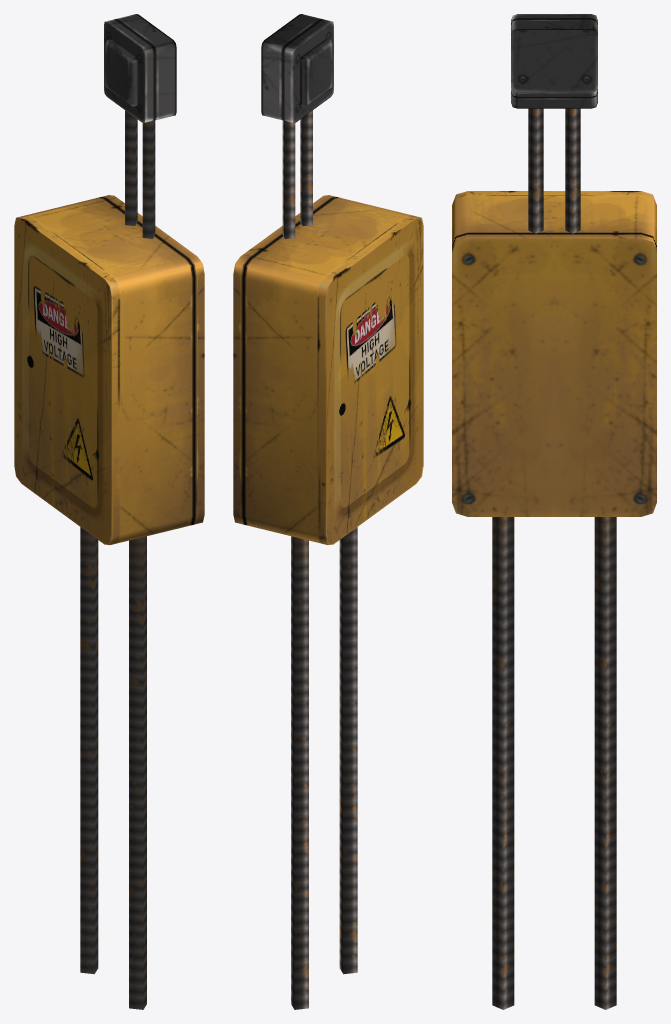
The model's file is fuseBox01.FBX.
3 views of the same model, side by side, from view 1: azimuth 30°, elevation 25°; view 2: azimuth 150°, elevation 25°; view 3: azimuth 270°, elevation 25° (orthographic). The views are drawn at different scales.
Visible parts, largest first — view 1: fuseBox01, fuseBox01_door; view 2: fuseBox01, fuseBox01_door; view 3: fuseBox01, fuseBox01_door.
Part boxes in pixels (<box>): fuseBox01: <box>25,14,204,1009</box>; fuseBox01_door: <box>14,215,120,544</box>; fuseBox01: <box>233,14,412,1009</box>; fuseBox01_door: <box>317,215,423,544</box>; fuseBox01: <box>452,14,656,1009</box>; fuseBox01_door: <box>452,191,656,208</box>.
Size of the model in its own units: 22 by 215 by 40.
